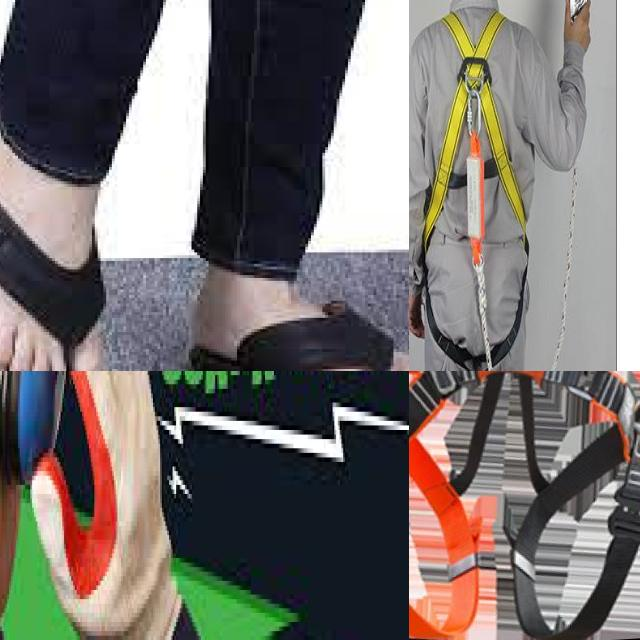Ear-protection: (0, 371, 76, 521)
Harness: (409, 371, 640, 640), (419, 6, 531, 371)
Sandals: (0, 75, 111, 371), (187, 247, 409, 371)
